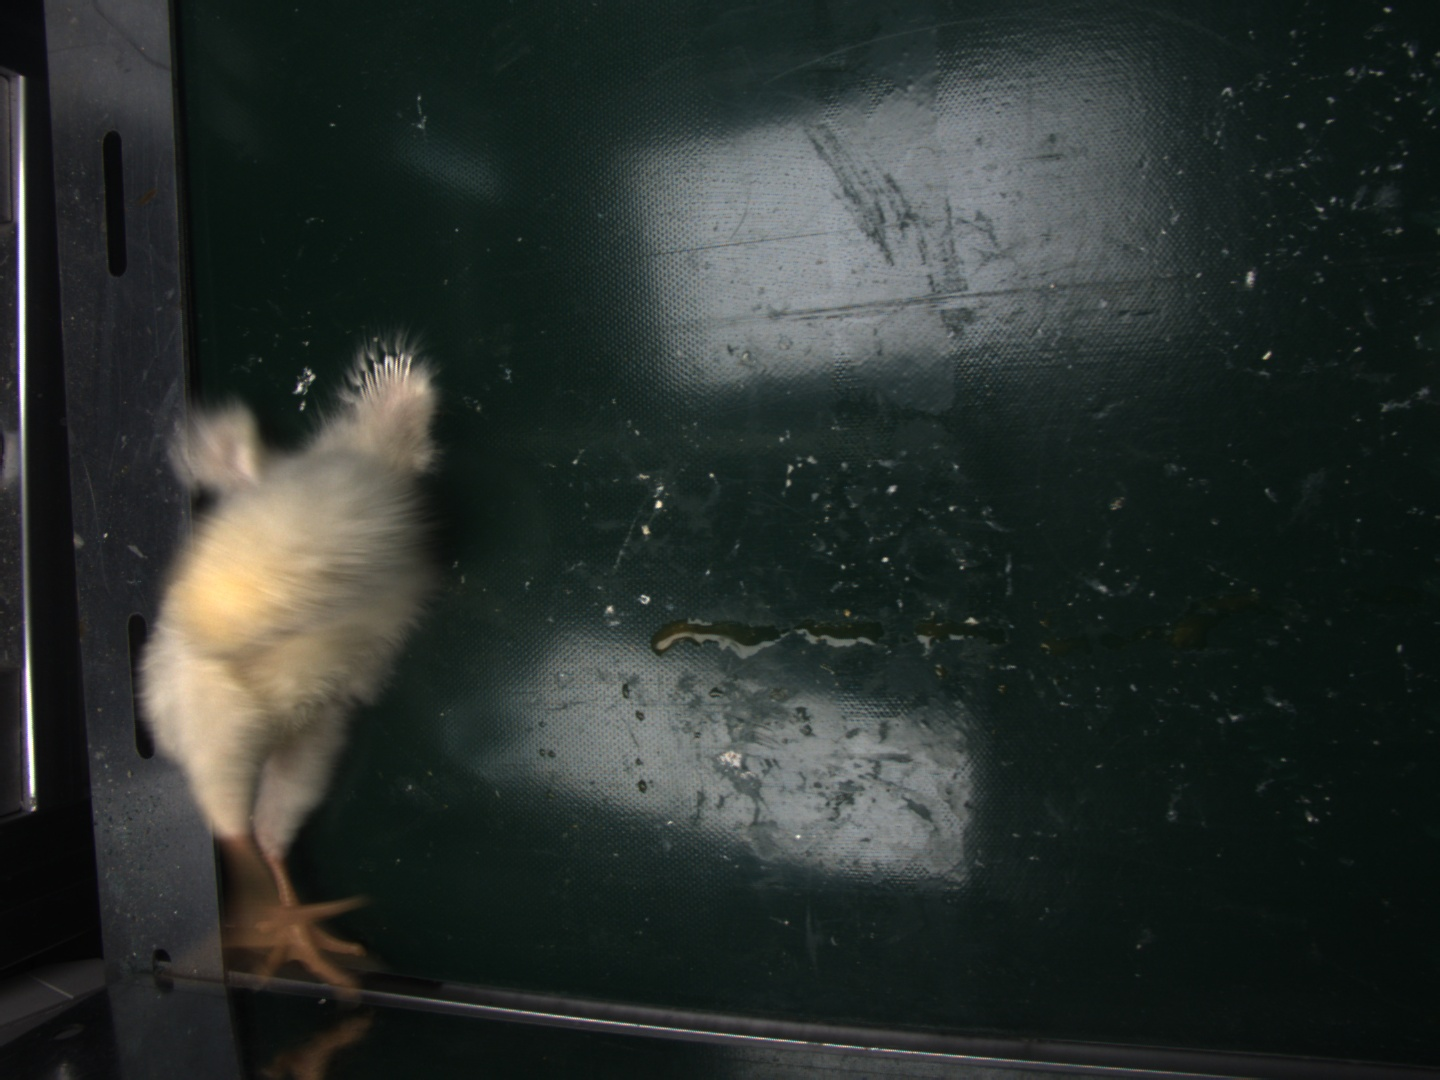male: (356, 349, 415, 406)
